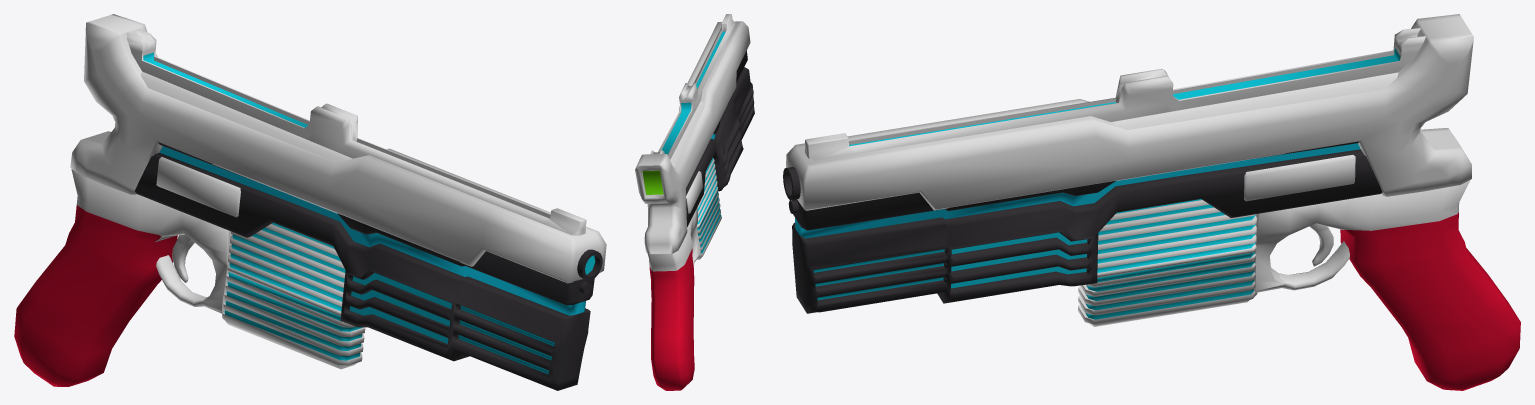
File: pest.fbx
3 views of the same model, side by side, from view 1: azimuth 30°, elevation 25°; view 2: azimuth 150°, elevation 25°; view 3: azimuth 270°, elevation 25° (orthographic). The views are drawn at different scales.
Visible parts, largest first — view 1: verh_low, osnova_low, rykoyat_low, mag_low, muwka_low, blue_low, okno_low, kurok_low; view 2: verh_low, rykoyat_low, osnova_low, muwka_low, mag_low, blue_low, okno_low; view 3: verh_low, osnova_low, rykoyat_low, mag_low, muwka_low, blue_low, okno_low.
Part boxes in pixels (box(x1,y1,x2,y2)): verh_low: box(70, 14, 606, 283); osnova_low: box(135, 142, 602, 390); rykoyat_low: box(14, 169, 232, 386); mag_low: box(222, 222, 365, 369); muwka_low: box(126, 29, 586, 235); blue_low: box(141, 71, 352, 162); okno_low: box(156, 157, 240, 217); kurok_low: box(172, 235, 194, 282); verh_low: box(635, 21, 750, 254); rykoyat_low: box(648, 207, 700, 390); osnova_low: box(686, 50, 754, 227); muwka_low: box(650, 14, 735, 159); mag_low: box(697, 157, 721, 259); blue_low: box(670, 100, 704, 167); okno_low: box(686, 171, 702, 213); verh_low: box(786, 14, 1473, 210); osnova_low: box(783, 141, 1382, 313); rykoyat_low: box(1254, 180, 1520, 390); mag_low: box(1078, 199, 1257, 326); muwka_low: box(805, 28, 1425, 160); blue_low: box(1111, 72, 1398, 130); okno_low: box(1244, 155, 1355, 201).
Bounding box in the file's own units: 14.88 × 32.69 × 18.84.
